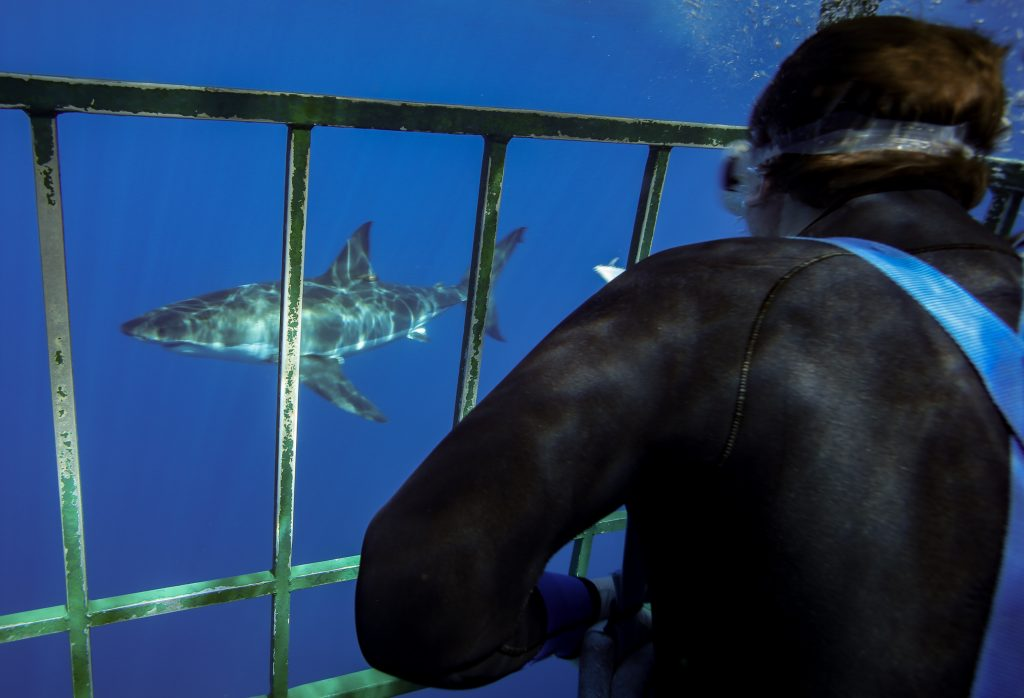shark: (120, 201, 516, 420)
